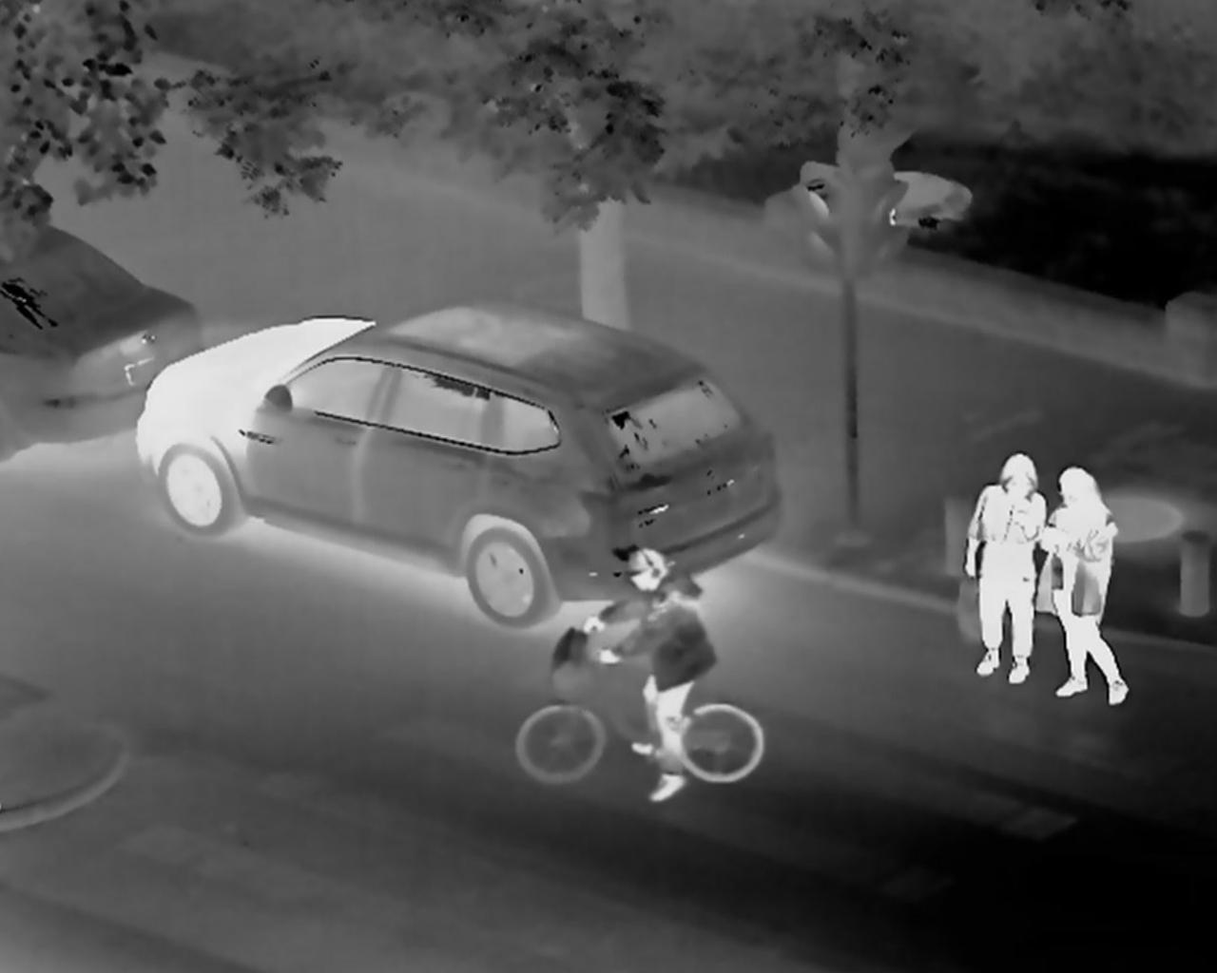person: (624, 554, 712, 802), (1043, 467, 1130, 702), (964, 454, 1048, 683)
